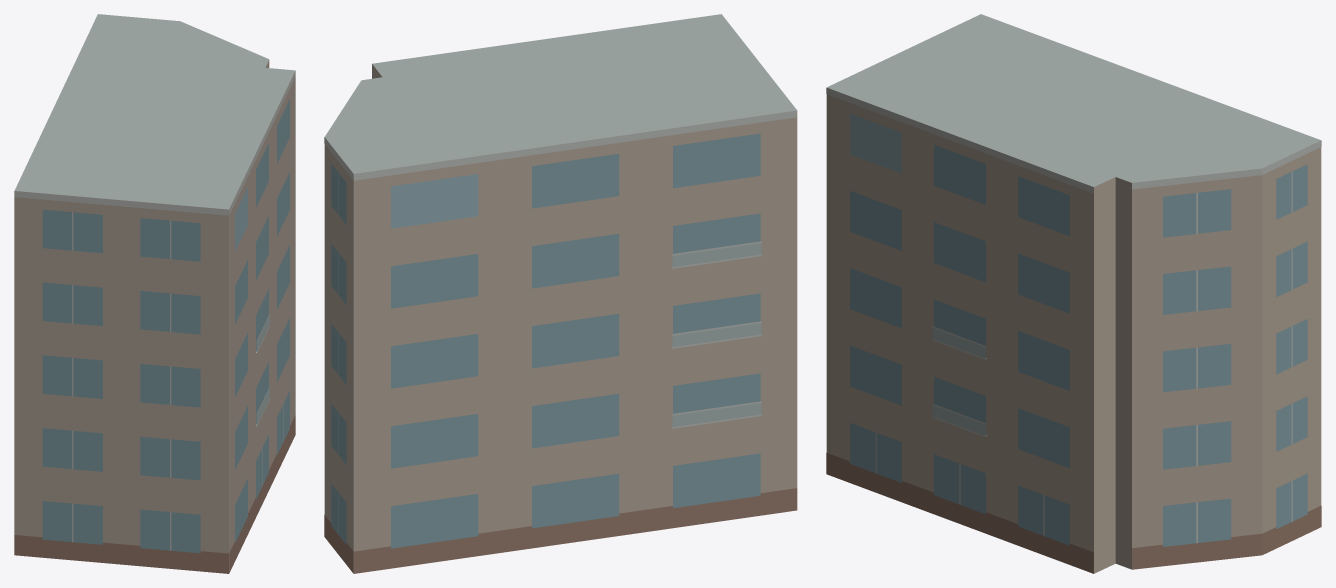
File: survey-upis-32889898.glb
3 views of the same model, side by side, from view 1: azimuth 30°, elevation 25°; view 2: azimuth 150°, elevation 25°; view 3: azimuth 270°, elevation 25° (orthographic). The views are drawn at different scales.
Visible parts, largest first — view 1: survey-upis-32889898.tmp; view 2: survey-upis-32889898.tmp; view 3: survey-upis-32889898.tmp.
Part boxes in pixels (bbox=[...]): survey-upis-32889898.tmp: bbox=[14, 14, 295, 573]; survey-upis-32889898.tmp: bbox=[324, 14, 797, 573]; survey-upis-32889898.tmp: bbox=[826, 14, 1321, 573].
Bounding box in the file's own units: 13.84 × 14.4 × 16.71.
